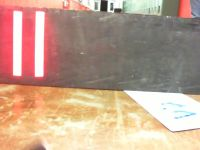switch: (33, 10, 45, 77), (12, 11, 23, 76)
